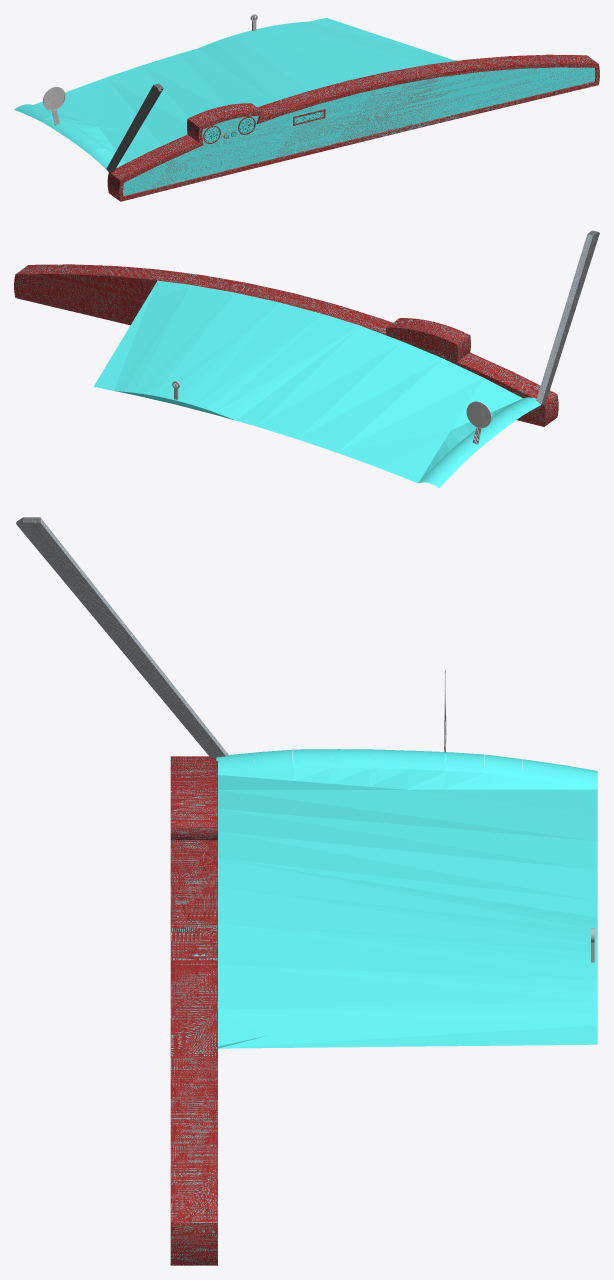
The model's file is Avto.obj.
3 views of the same model, one above another, from view 1: azimuth 30°, elevation 25°; view 2: azimuth 150°, elevation 25°; view 3: azimuth 270°, elevation 25° (orthographic). The views are drawn at different scales.
Parts seen in each view (by area): view 1: Mesh1 Model; view 2: Mesh1 Model; view 3: Mesh1 Model.
Part boxes in pixels (<box>): Mesh1 Model: <box>14,14,599,201</box>; Mesh1 Model: <box>14,230,599,488</box>; Mesh1 Model: <box>16,517,597,1265</box>.
Size of the model in its own units: 153 by 42.2 by 78.96.
Materials: 13 (2 with a texture image).
